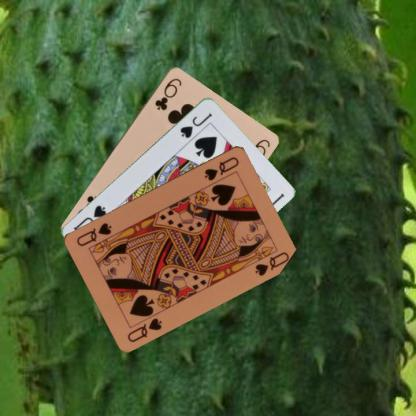6c: (152, 74, 183, 111)
Js: (177, 110, 214, 139)
Qs: (125, 314, 163, 344), (202, 154, 240, 181)
